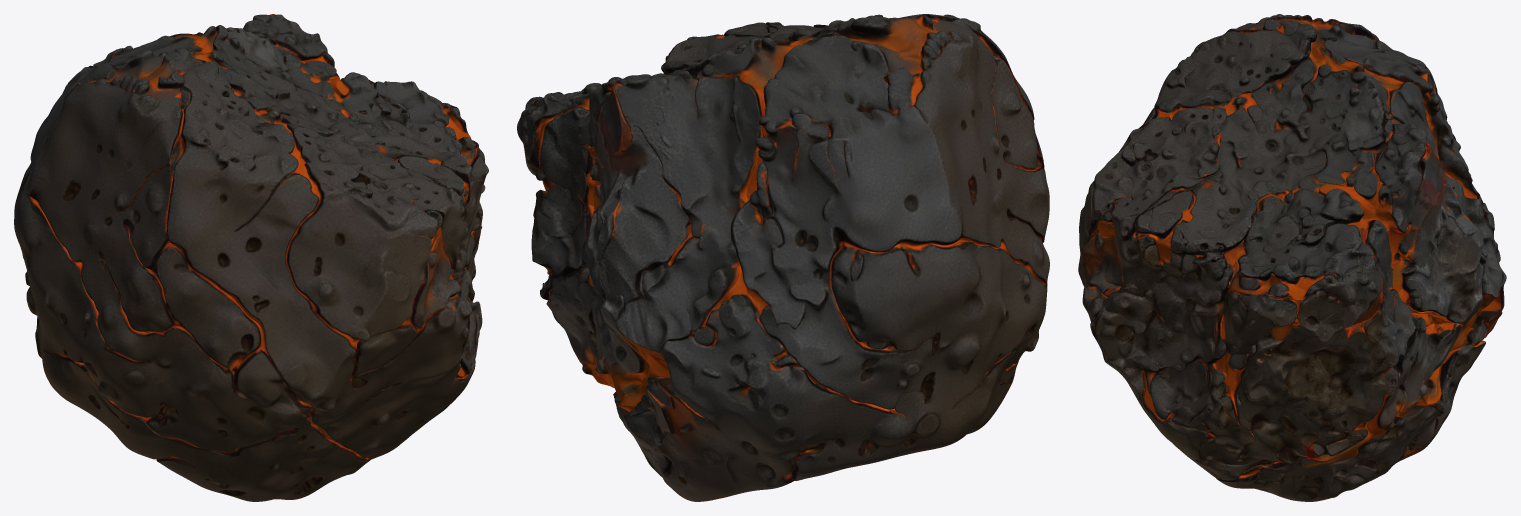
The model's file is venus_boulder.glb.
3 renders of one model, left to right at view 1: azimuth 30°, elevation 25°; view 2: azimuth 150°, elevation 25°; view 3: azimuth 270°, elevation 25°, orthographic. The views are drawn at different scales.
Parts seen in each view (by area): view 1: tripo_node_dcc96b7f-37bf-48d0-9332-930d5f1bddd2; view 2: tripo_node_dcc96b7f-37bf-48d0-9332-930d5f1bddd2; view 3: tripo_node_dcc96b7f-37bf-48d0-9332-930d5f1bddd2.
Boxes of the visible parts, x1=… form: tripo_node_dcc96b7f-37bf-48d0-9332-930d5f1bddd2: x1=14, y1=14, x2=488, y2=501; tripo_node_dcc96b7f-37bf-48d0-9332-930d5f1bddd2: x1=517, y1=14, x2=1049, y2=501; tripo_node_dcc96b7f-37bf-48d0-9332-930d5f1bddd2: x1=1078, y1=14, x2=1506, y2=501.
Size of the model in its own units: 0.9787 by 0.9799 by 0.9263.
1 material, 1 textured.
